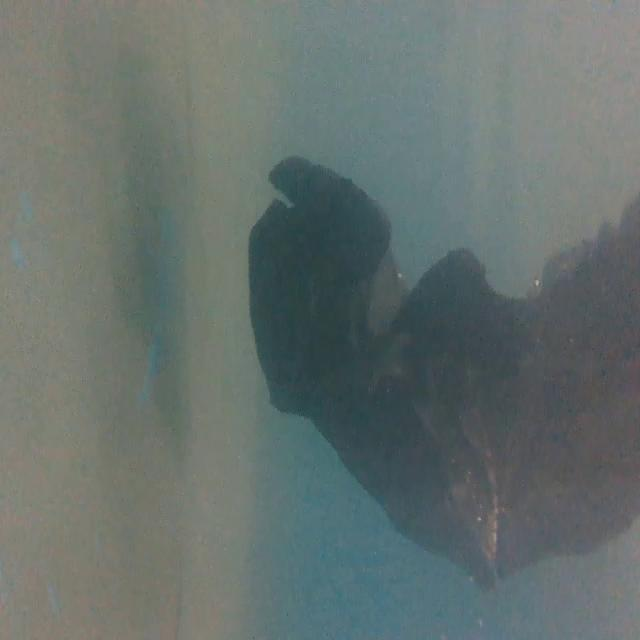plastic bags: (244, 151, 640, 590)
